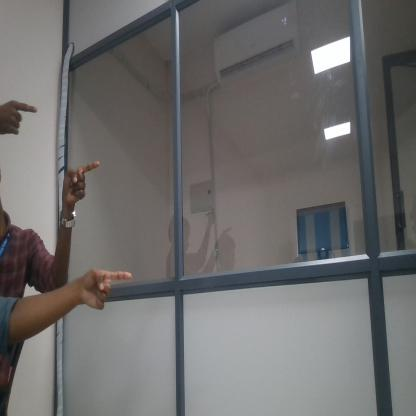Left: (81, 262, 133, 314), (56, 150, 101, 203)
